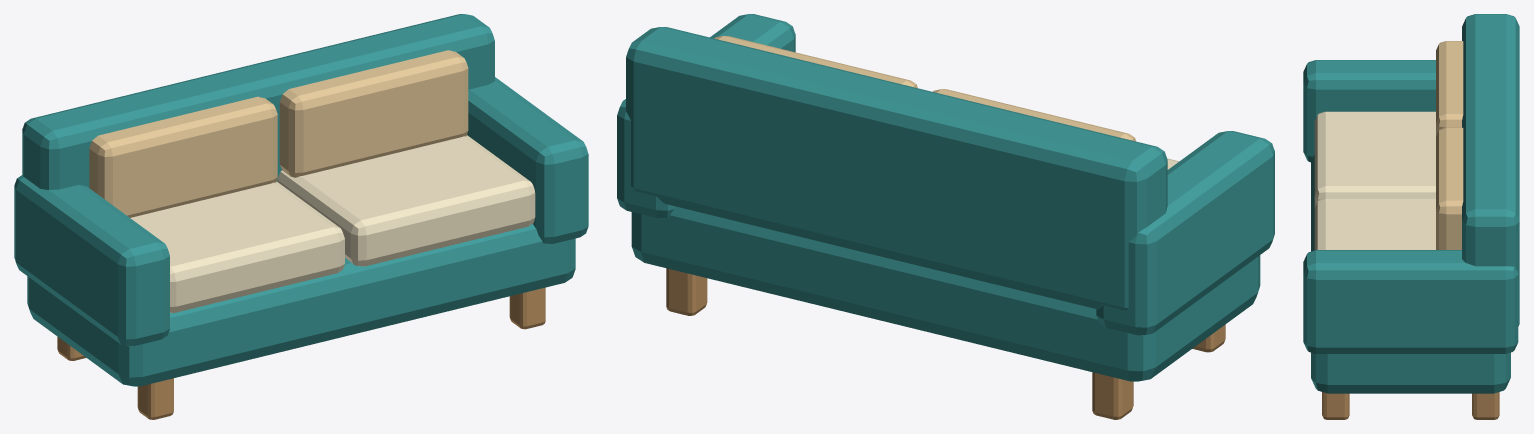
Rendered from S027_two_seat_sofa.glb.
3 renders of one model, left to right at view 1: azimuth 30°, elevation 25°; view 2: azimuth 150°, elevation 25°; view 3: azimuth 270°, elevation 25°, orthographic. The views are drawn at different scales.
Parts seen in each view (by area): view 1: sofa_base, seat_cushion.001, sofa_back, sofa_arm, seat_cushion, back_cushion.001, back_cushion, sofa_arm.001, sofa_foot.002, sofa_foot; view 2: sofa_back, sofa_base, sofa_arm, sofa_arm.001, sofa_foot.001, sofa_foot.003, back_cushion, back_cushion.001; view 3: sofa_arm.001, sofa_back, seat_cushion, sofa_base, sofa_arm, seat_cushion.001, back_cushion.001, back_cushion, sofa_foot.002, sofa_foot.003.
Boxes of the visible parts, x1,y1,x2,y2 form: sofa_base: (27,224,575,386); seat_cushion.001: (277,135,535,266); sofa_back: (22,14,494,189); sofa_arm: (14,175,169,346); seat_cushion: (130,181,344,312); back_cushion.001: (279,50,468,177); back_cushion: (89,96,277,217); sofa_arm.001: (467,77,588,243); sofa_foot.002: (509,287,545,329); sofa_foot: (137,378,173,419); sofa_back: (626,27,1167,310); sofa_base: (631,206,1260,381); sofa_arm: (1096,131,1274,335); sofa_arm.001: (617,14,795,218); sofa_foot.001: (1092,372,1133,419); sofa_foot.003: (666,268,707,315); back_cushion: (932,89,1136,141); back_cushion.001: (714,36,917,88); sofa_arm.001: (1303,250,1518,353); sofa_back: (1462,14,1519,326); seat_cushion: (1314,111,1435,207); sofa_base: (1311,154,1510,393); sofa_arm: (1303,60,1435,162); seat_cushion.001: (1314,198,1435,250); back_cushion.001: (1436,127,1463,249); back_cushion: (1436,41,1463,136); sofa_foot.002: (1322,392,1349,419); sofa_foot.003: (1472,392,1499,419).
Bounding box in the file's own units: 2.02 × 0.97 × 0.865.
